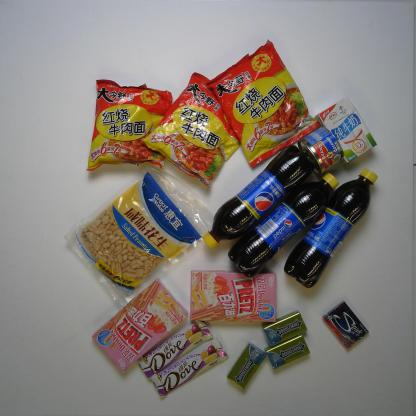Canned Food: (296, 126, 344, 175)
Chocolate: (150, 338, 228, 398), (137, 319, 213, 379)
Dessert: (92, 278, 189, 373), (190, 270, 276, 322)
Dried Fruit: (62, 162, 217, 311)
Drink: (201, 144, 316, 250), (227, 172, 338, 279), (282, 168, 378, 288)
Gum: (321, 299, 369, 350), (226, 341, 267, 389), (262, 310, 308, 347), (264, 333, 310, 370)
Instant Noodles: (205, 38, 322, 169), (142, 72, 246, 189), (86, 79, 173, 171)
Milk: (315, 95, 377, 165)
